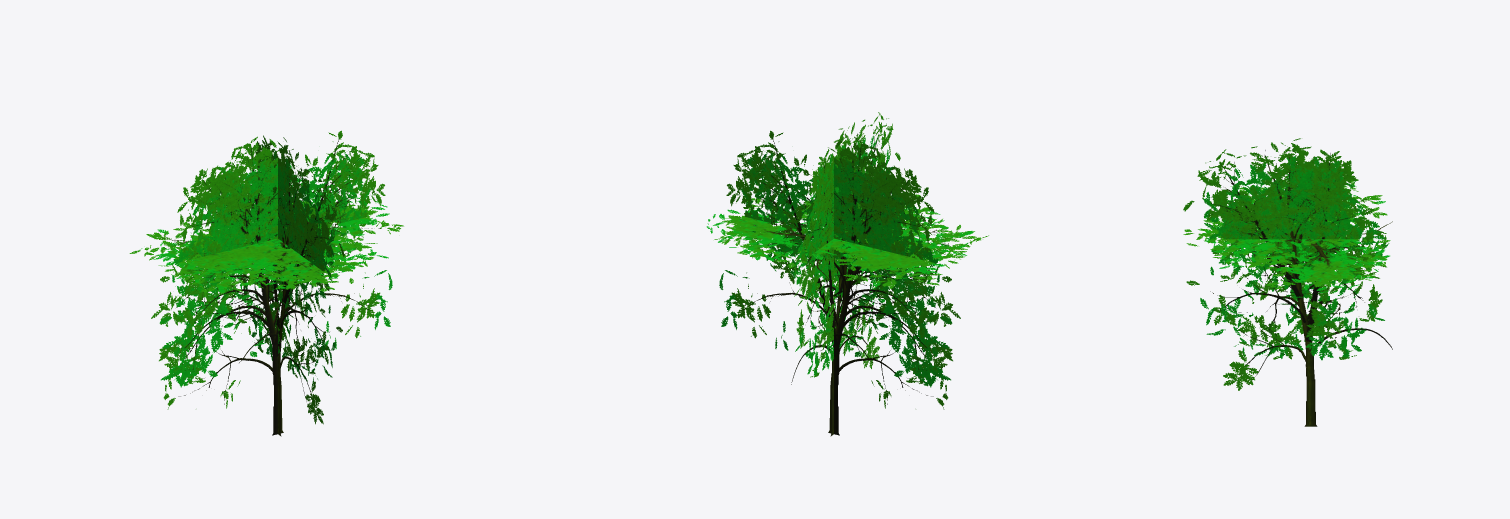
File: SquareNoyer20.glb
3 views of the same model, side by side, from view 1: azimuth 30°, elevation 25°; view 2: azimuth 150°, elevation 25°; view 3: azimuth 270°, elevation 25° (orthographic). The views are drawn at different scales.
Visible parts, largest first — view 1: Asset3DLoader.sceneRoot; view 2: Asset3DLoader.sceneRoot; view 3: Asset3DLoader.sceneRoot.
Part boxes in pixels (left/top/right/bottom): Asset3DLoader.sceneRoot: left=129, top=130, right=403, bottom=436; Asset3DLoader.sceneRoot: left=706, top=112, right=988, bottom=436; Asset3DLoader.sceneRoot: left=1183, top=138, right=1392, bottom=426.
Bounding box in the file's own units: 12.5 × 12.5 × 12.5.
Materials: 3 (3 with a texture image).
